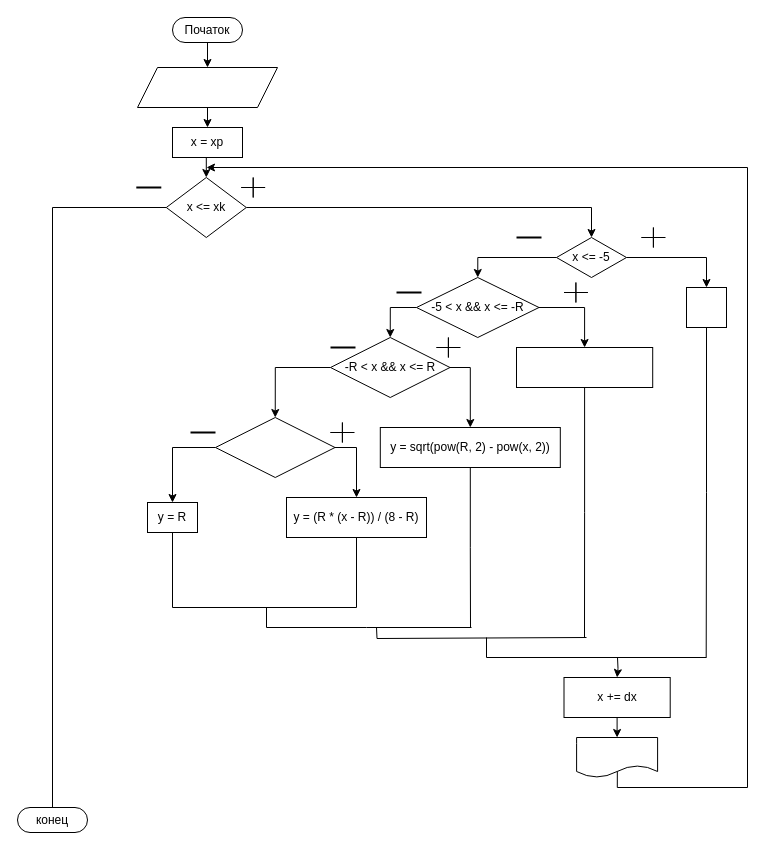
This 773x850 diagram has some shape labels left out. Each missing label, with the centre of its shape:
"R < x && x <= 8" goes at (x=274, y=447).
"x, y" goes at (x=617, y=757).
"xp, xk, dx, R, x" goes at (x=207, y=87).
"y = (3 * (R + x)) / (5 - R)" goes at (x=584, y=367).
"y = -3" goes at (x=706, y=307).
